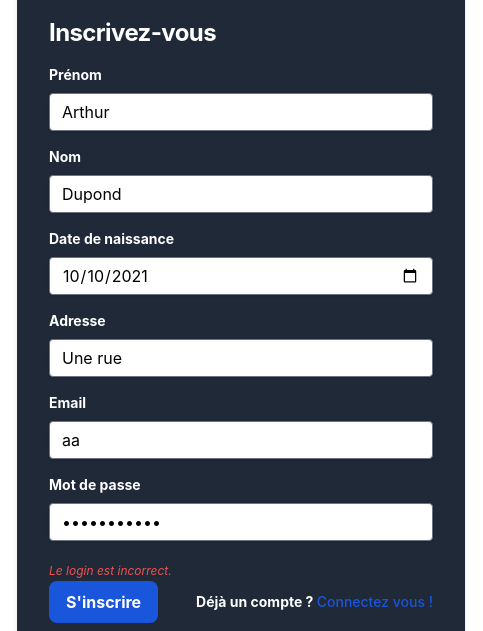
Test: Test E2E › [REGISTER] : Test missing fields
The width and height of the screenshot is (483, 631).
(page scrolled)
// Clear les inputs
Clear the password field labelled "Mot de passe" at (241, 522), box [49,503,433,541]
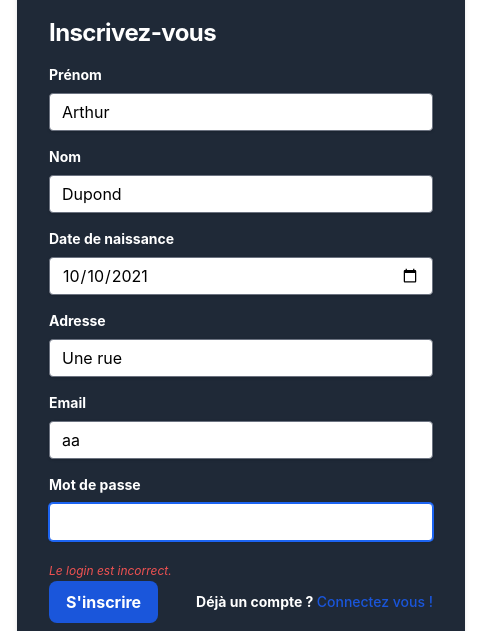
Clear the field with id "email" at (241, 440), box [49,421,433,459]
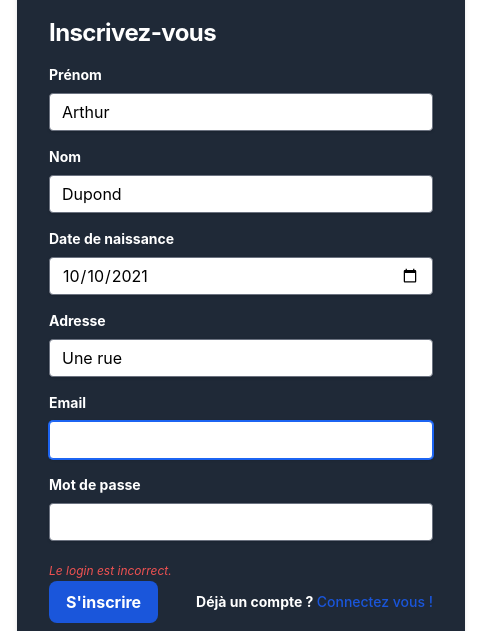
Clear the field with id "firstname" at (241, 112), box [49,93,433,131]
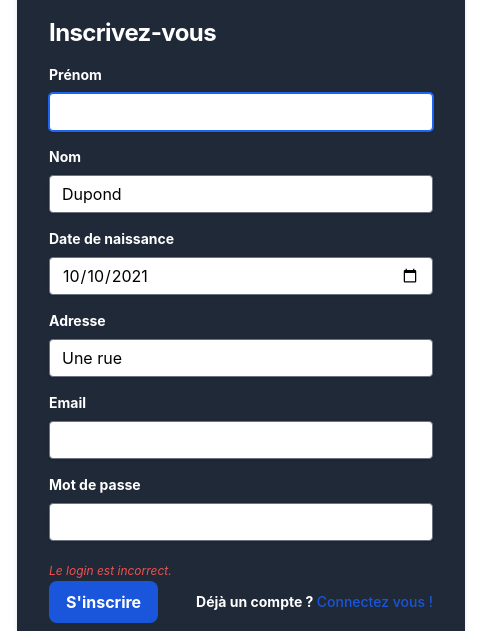
// Remplit les inputs
Type "test123" into the password field labelled "Mot de passe" at (241, 522), box [49,503,433,541]
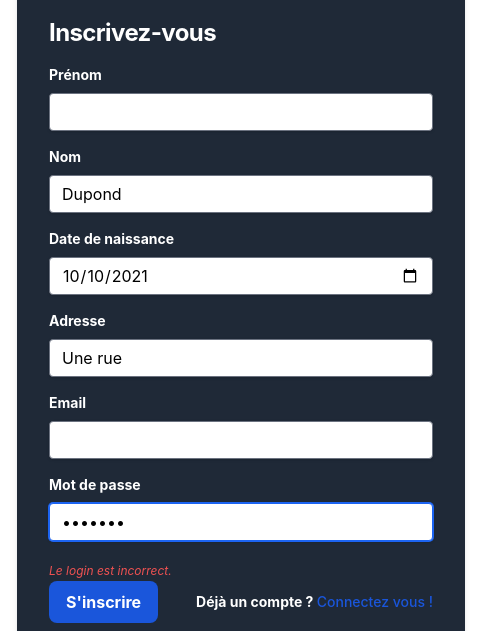
Type "aabbb@a.com" into the field with id "email" at (241, 440), box [49,421,433,459]
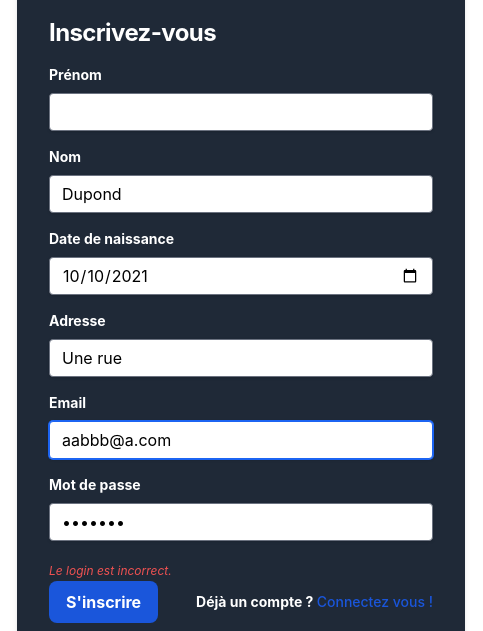
// Valide les données
Click the button with test id "validate-register" at (104, 602), box [49,581,158,623]
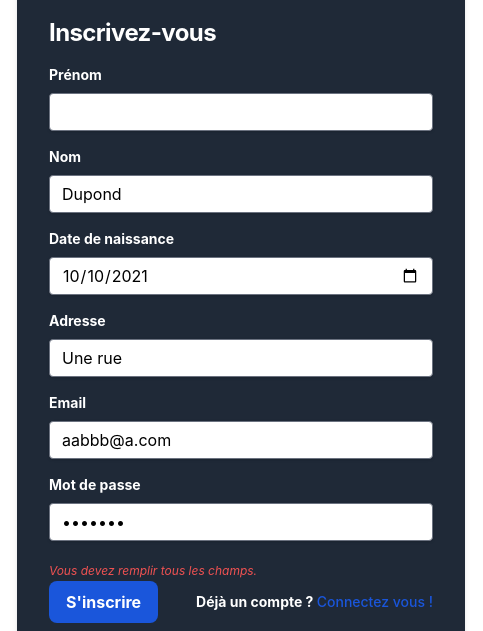
Now the text "Vous devez remplir tous les champs." is shown, box [49,563,257,578]
